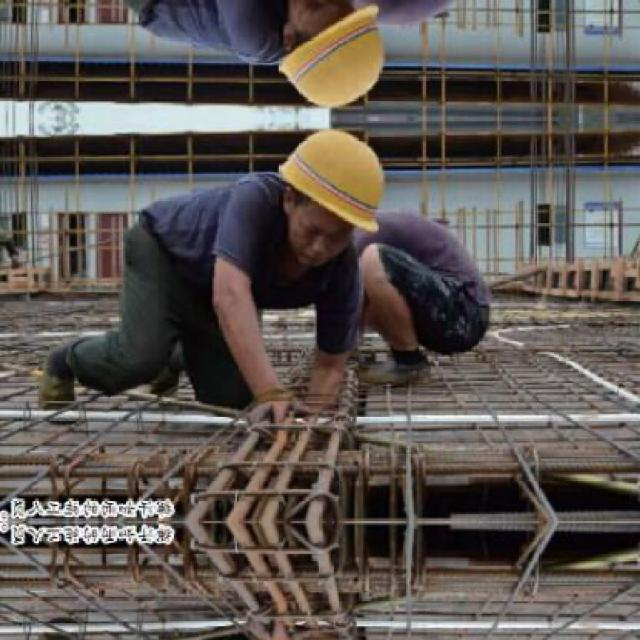helmet: (264, 119, 398, 268), (265, 0, 400, 117)
